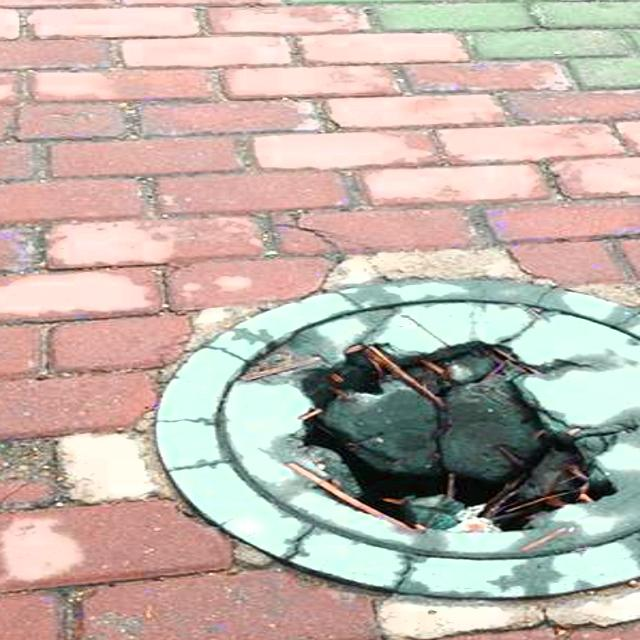broke: (112, 260, 640, 601)
